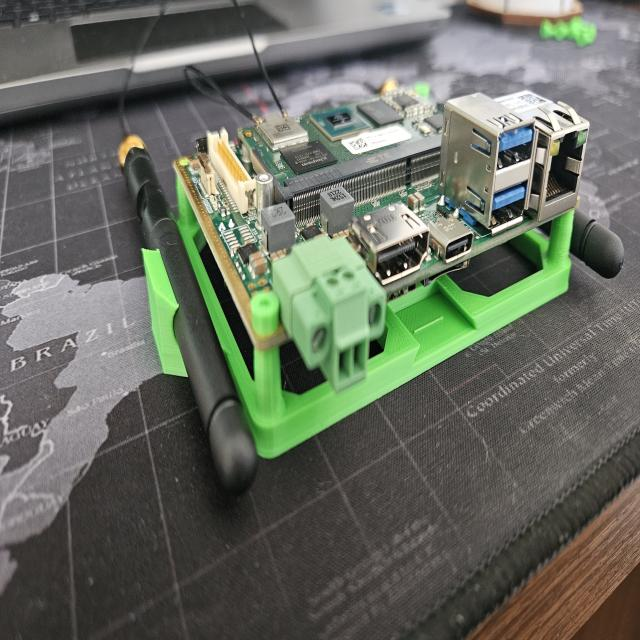som: (230, 84, 465, 188)
